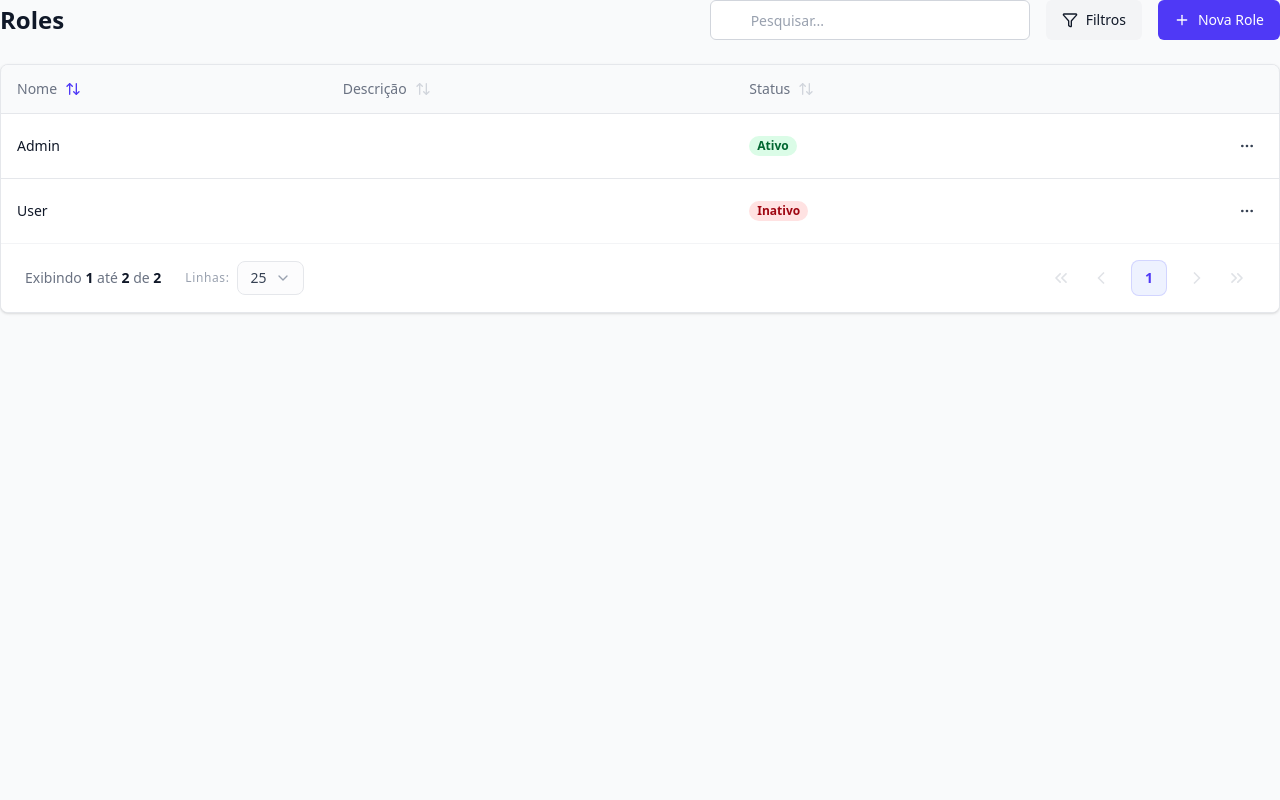
Test: RoleListPage › handles delete mutation error without message
Expected: the text "Admin" is shown, [17, 136, 60, 154]
Click the button named "Abrir menu" in the row of "Admin" at {"x": 1247, "y": 146}, box [1231, 130, 1263, 162]
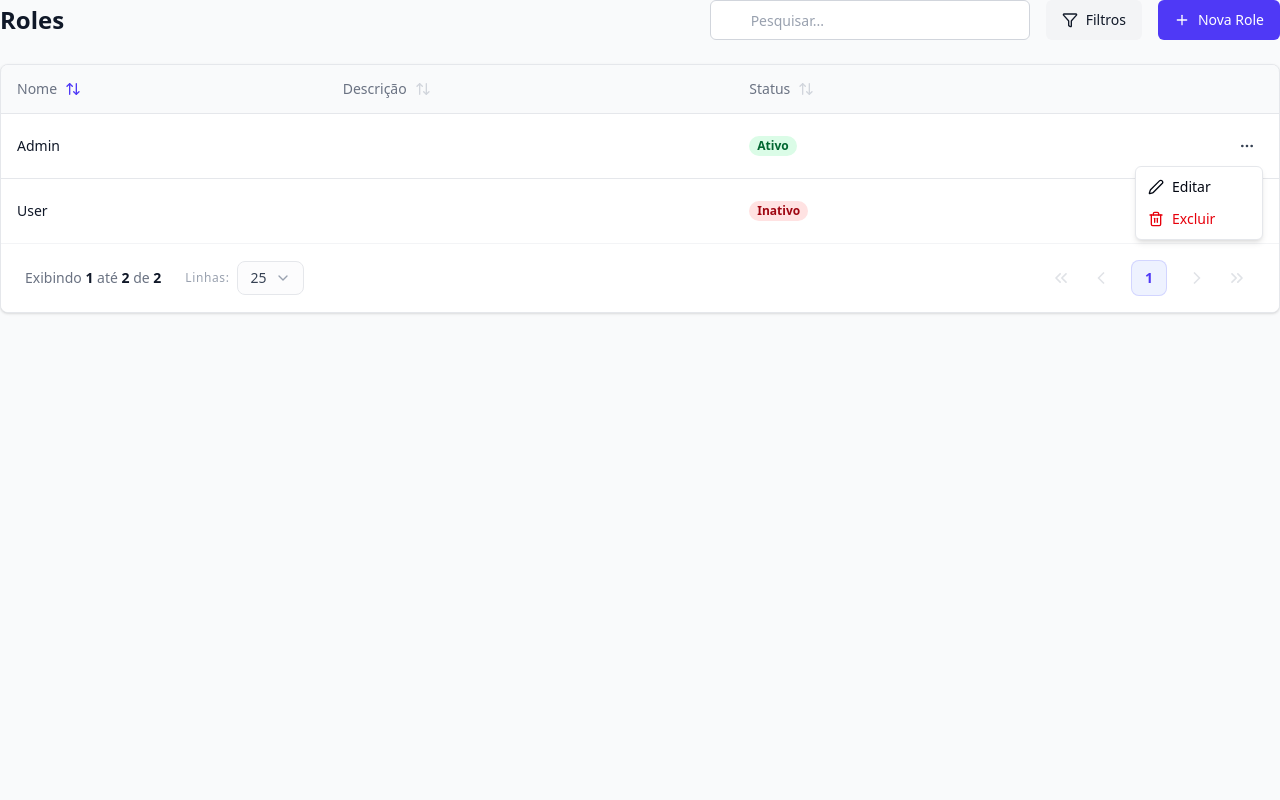
Click the menu item "Excluir" at {"x": 1182, "y": 218}, box [1148, 209, 1215, 228]
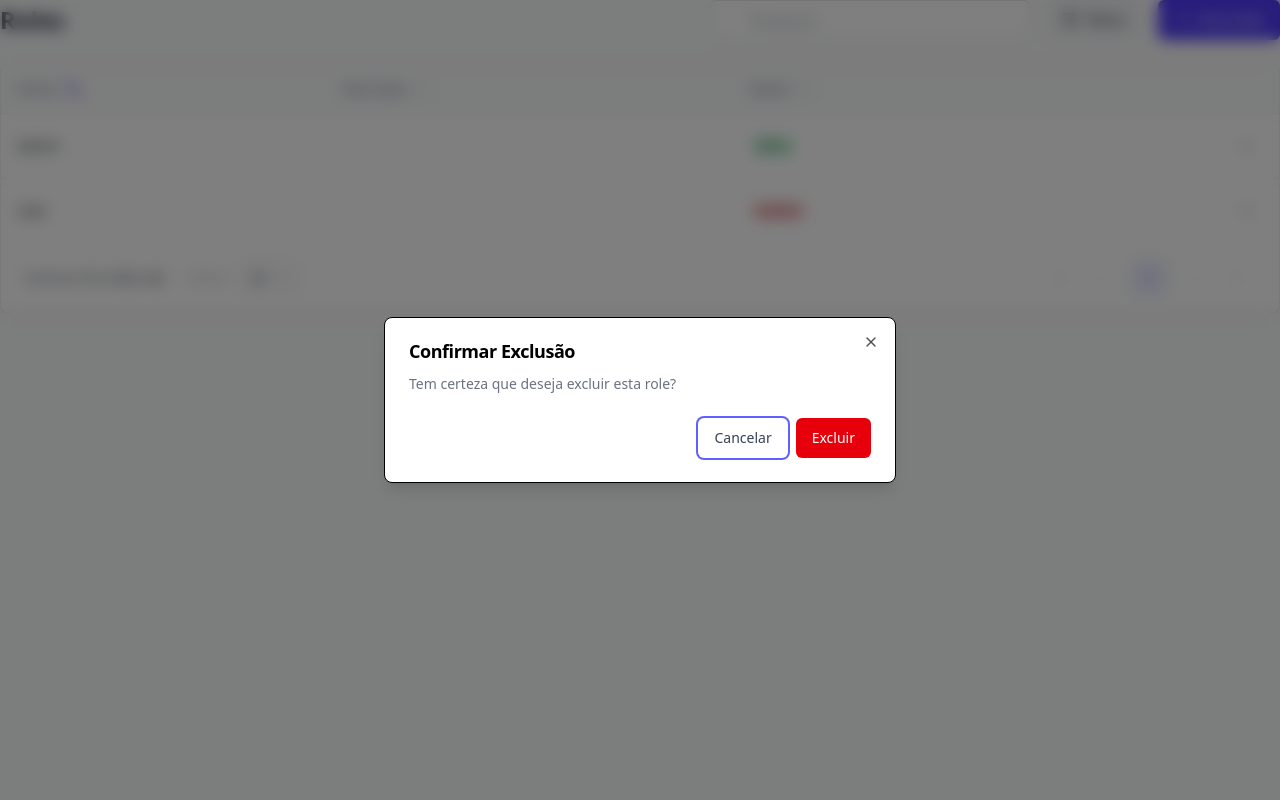
Click the button "Excluir" at {"x": 833, "y": 438}, box [796, 418, 871, 458]
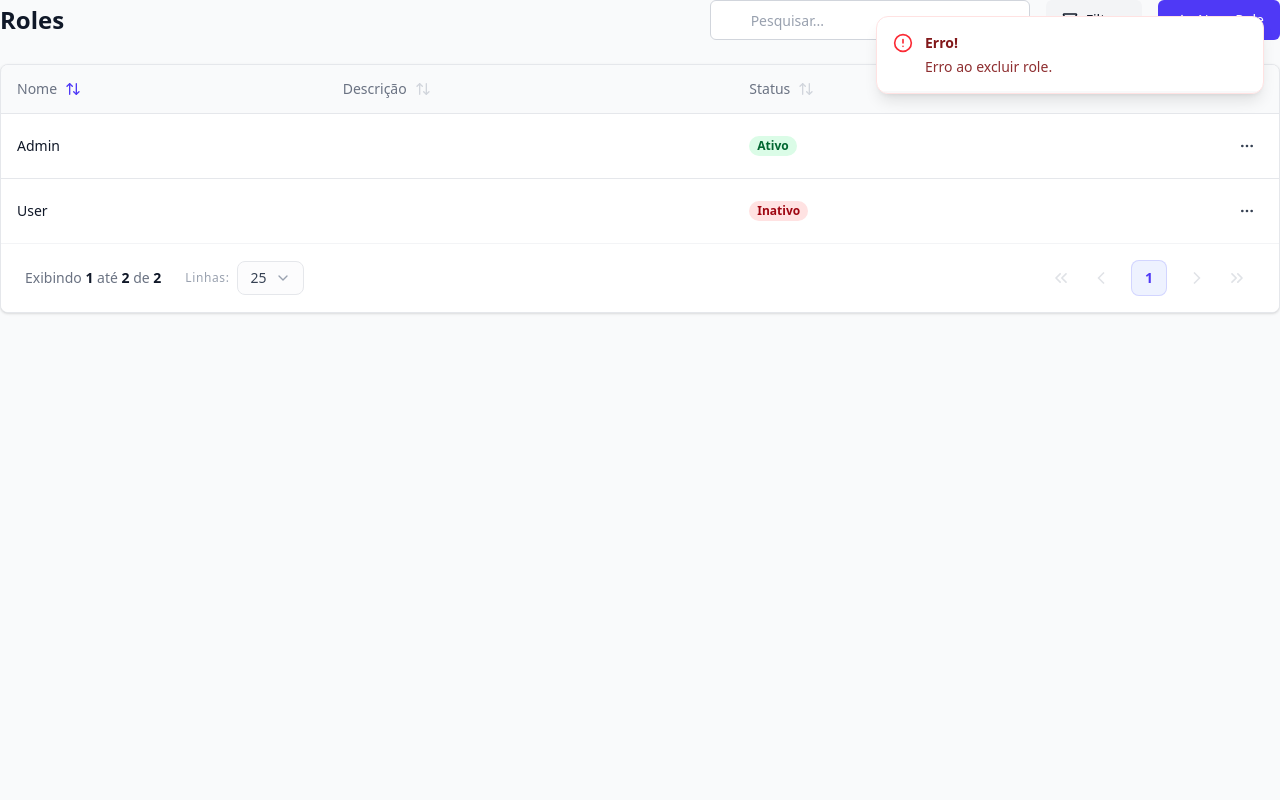
Result: the text "Erro ao excluir role." is shown at [925, 57, 1052, 77]
